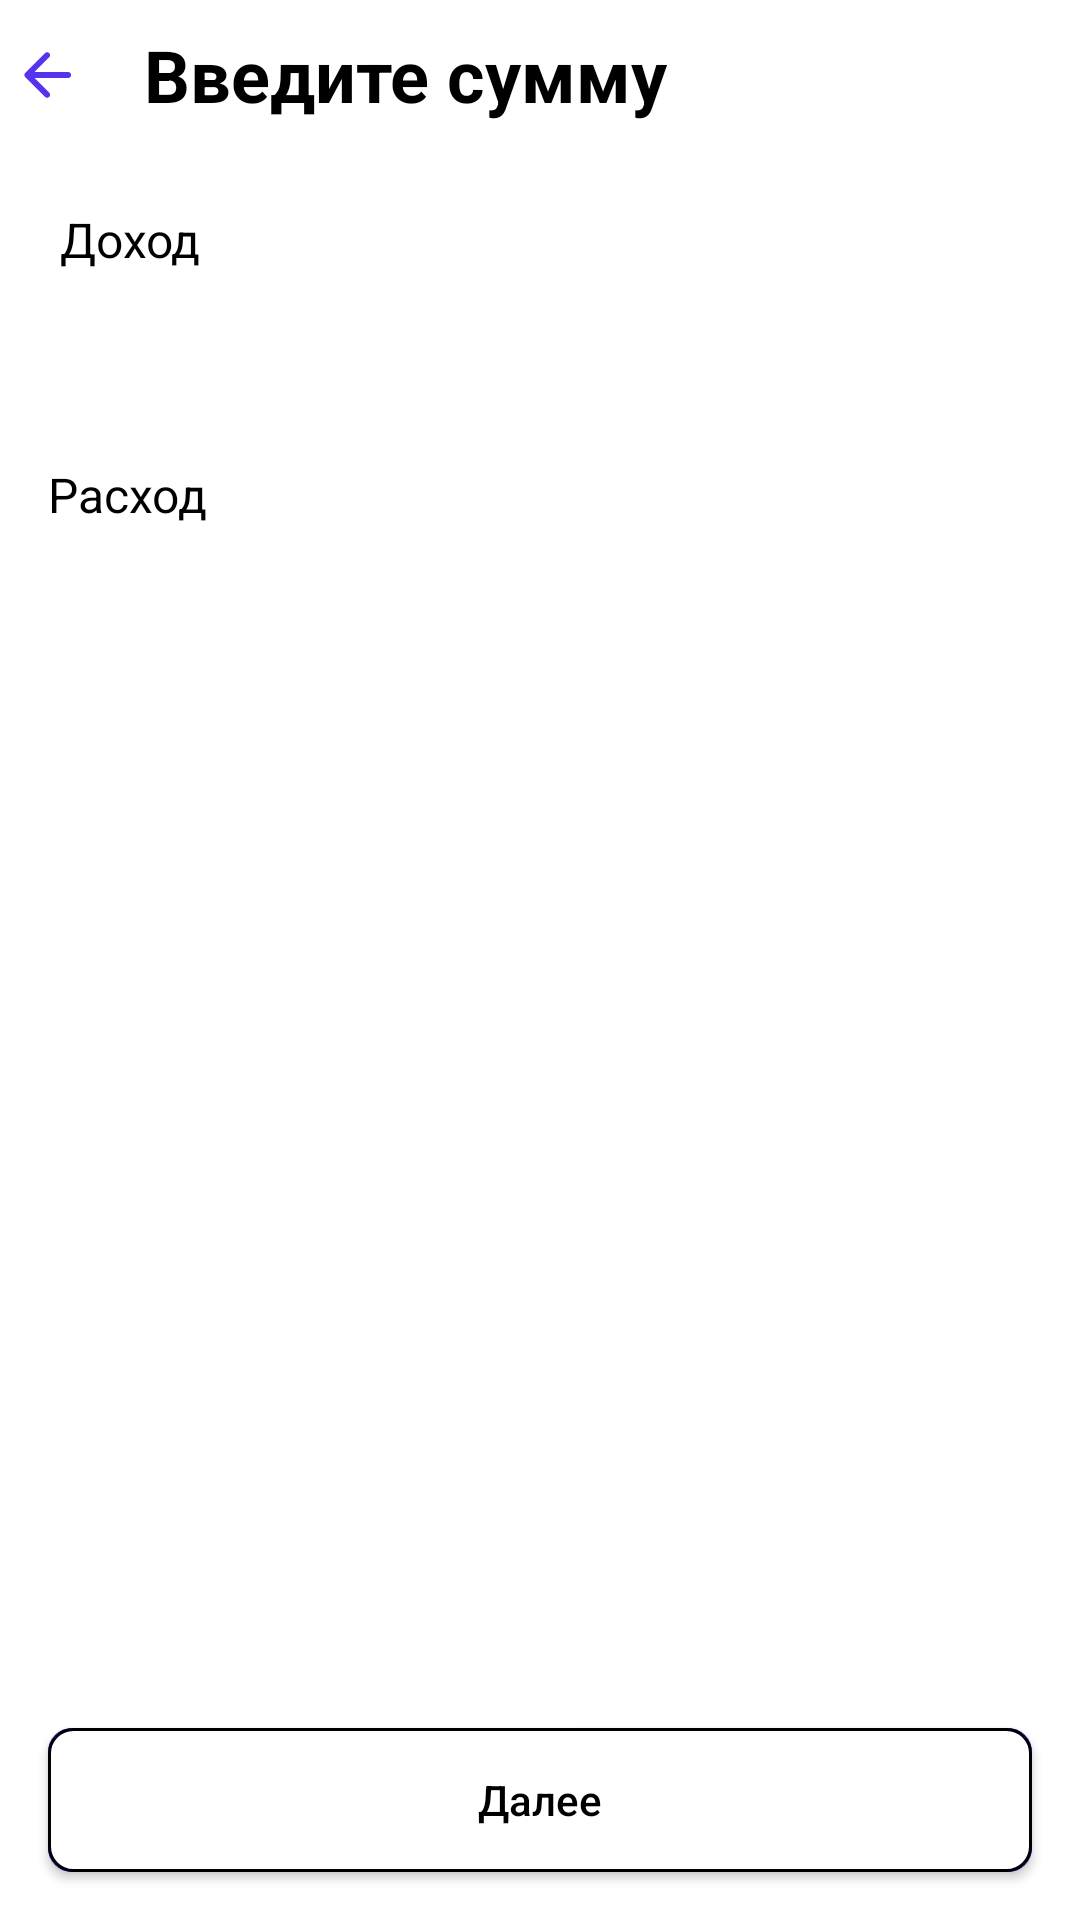

Screen size 1080×1920. Icon name, then its box in pixels as (x1, y1, x2, y2):
back arrow: (24, 52, 71, 98)
